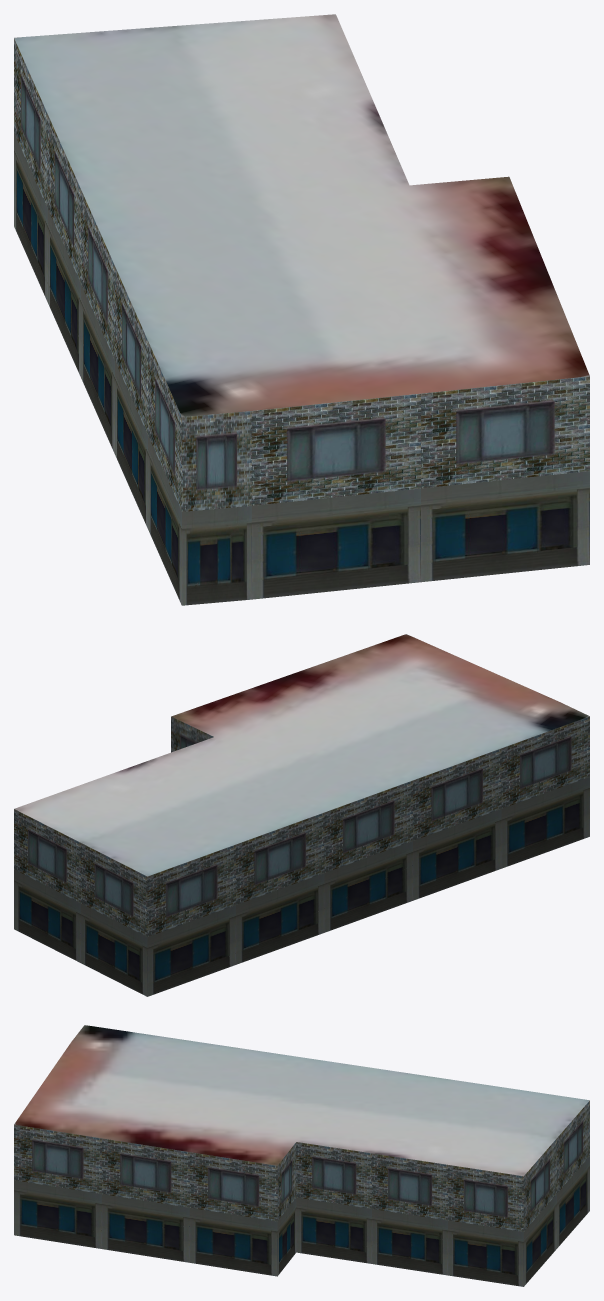
The model's file is T_1T7PK4PCSF.dae.
3 views of the same model, one above another, from view 1: azimuth 30°, elevation 25°; view 2: azimuth 150°, elevation 25°; view 3: azimuth 270°, elevation 25° (orthographic). The views are drawn at different scales.
Visible parts, largest first — view 1: SketchUp (×7); view 2: SketchUp (×6); view 3: SketchUp (×9).
Boxes of the visible parts, bbox=[...] form: SketchUp (×7): bbox=[14, 14, 589, 605]; SketchUp (×6): bbox=[14, 634, 589, 996]; SketchUp (×9): bbox=[14, 1025, 589, 1286].
Size of the model in its own units: 19.46 by 31.31 by 6.64.
Materials: 3 (3 with a texture image).
